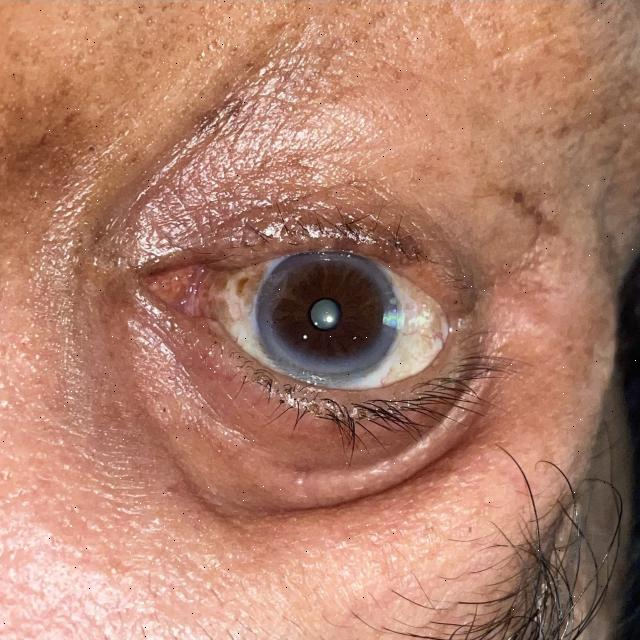Cataract: (249, 247, 400, 381)
